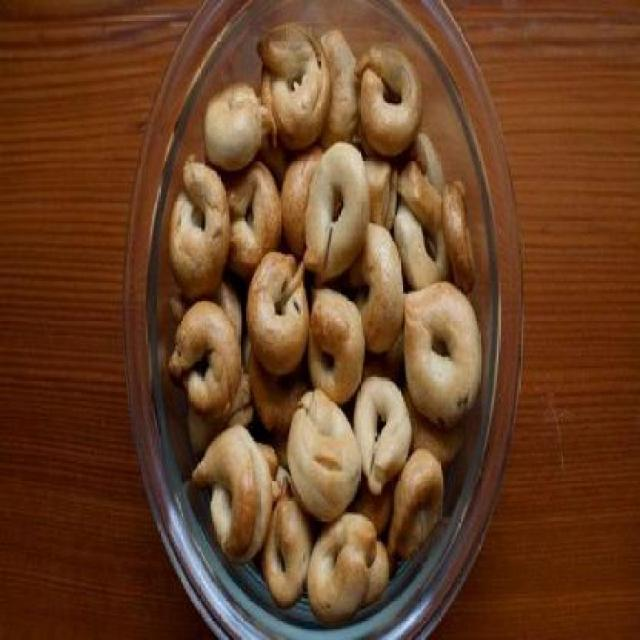Taralli: (159, 24, 487, 626)
